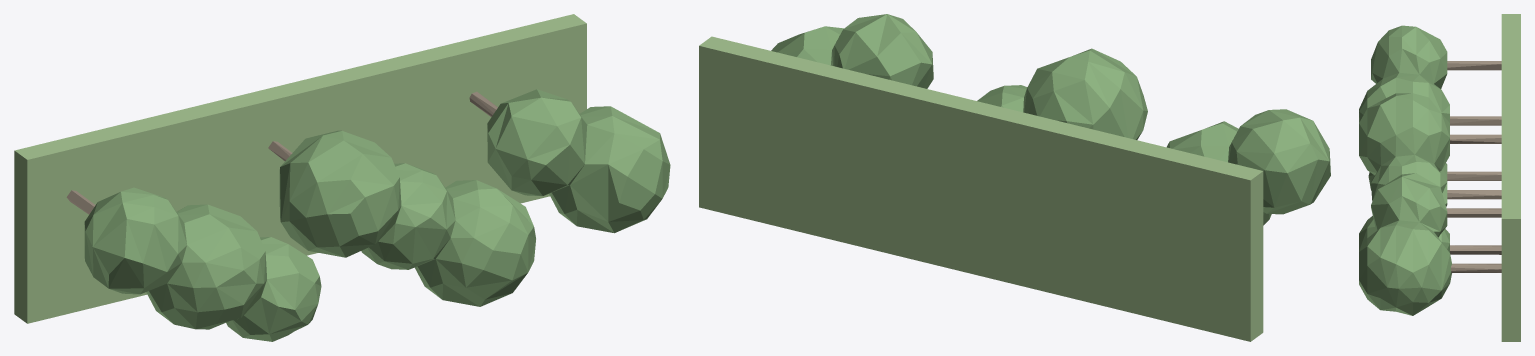
File: r-107-fairmount-park-woods.lod1.glb
3 views of the same model, side by side, from view 1: azimuth 30°, elevation 25°; view 2: azimuth 150°, elevation 25°; view 3: azimuth 270°, elevation 25° (orthographic). The views are drawn at different scales.
Visible parts, largest first — view 1: foliage, slope, trunks; view 2: slope, foliage; view 3: foliage, slope, trunks.
Boxes of the visible parts, box(x1,y1,x2,y2) form: foliage: box(84, 89, 670, 341); slope: box(14, 14, 586, 323); trunks: box(66, 91, 497, 214); slope: box(699, 36, 1263, 341); foliage: box(771, 14, 1330, 225); foliage: box(1359, 25, 1451, 315); slope: box(1501, 14, 1520, 341); trunks: box(1446, 61, 1501, 273).
Bounding box in the file's own units: 51037 × 16848 × 16697.
